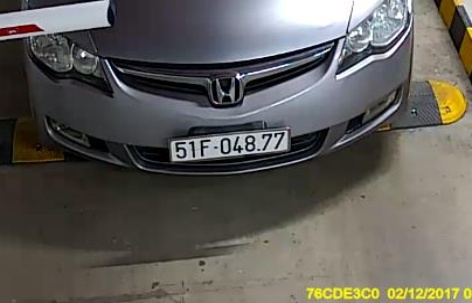plate: (165, 125, 294, 165)
